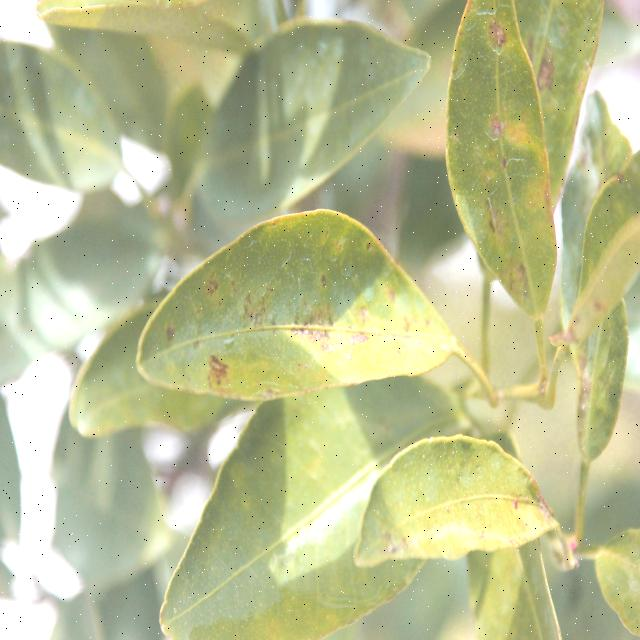canker: (165, 265, 439, 399), (448, 15, 551, 309), (529, 37, 588, 97)
